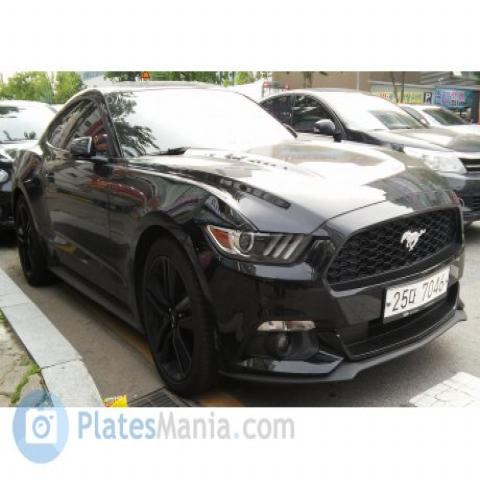LP: (374, 259, 460, 328)
